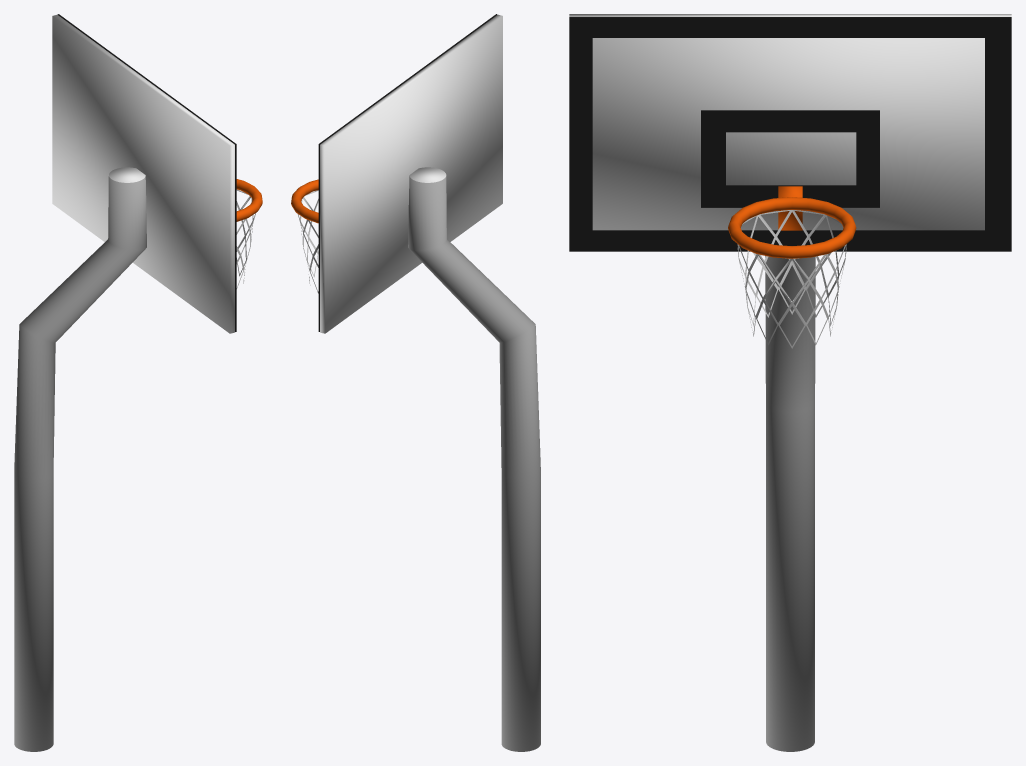
The model's file is Board.fbx.
The picture shows the model from 3 angles, left to right: view 1: azimuth 30°, elevation 25°; view 2: azimuth 150°, elevation 25°; view 3: azimuth 270°, elevation 25°; orthographic projection. The views are drawn at different scales.
Parts seen in each view (by area): view 1: Board; view 2: Board; view 3: Board.
Boxes of the visible parts, <box> form: Board: <box>14,14,262,751</box>; Board: <box>291,14,540,751</box>; Board: <box>569,14,1011,751</box>.
Bounding box in the file's own units: 2.81 × 7.12 × 3.6.
